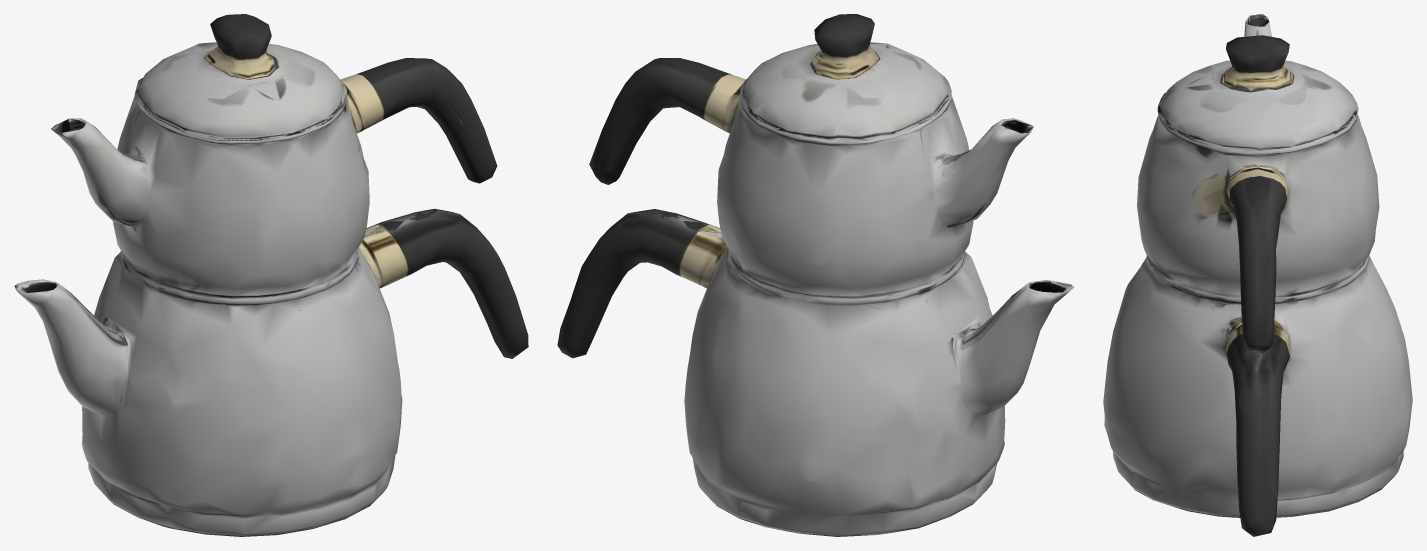
File: caydanlık.fbx
3 views of the same model, side by side, from view 1: azimuth 30°, elevation 25°; view 2: azimuth 150°, elevation 25°; view 3: azimuth 270°, elevation 25° (orthographic). The views are drawn at different scales.
Visible parts, largest first — view 1: Mesh_0; view 2: Mesh_0; view 3: Mesh_0.
Boxes of the visible parts, box(x1,y1,x2,y2) form: Mesh_0: box(14, 14, 528, 536); Mesh_0: box(557, 14, 1074, 536); Mesh_0: box(1103, 14, 1412, 536).
Size of the model in its own units: 191 by 161 by 107.
1 material, 1 textured.
